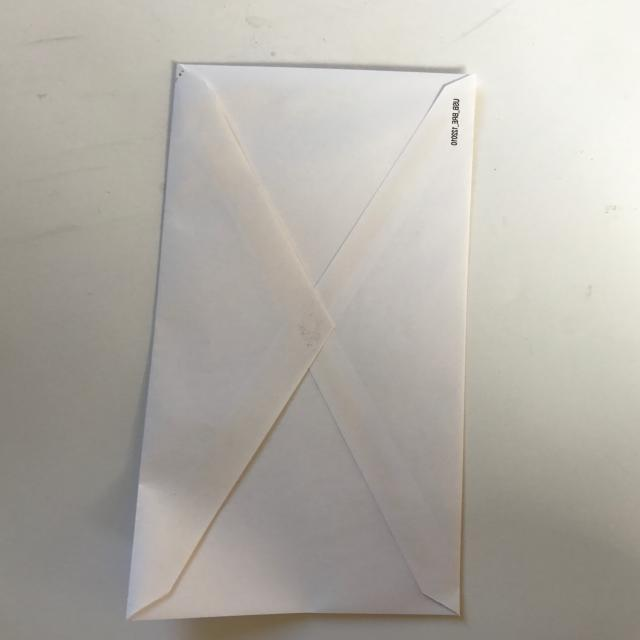paper: (114, 51, 493, 640)
